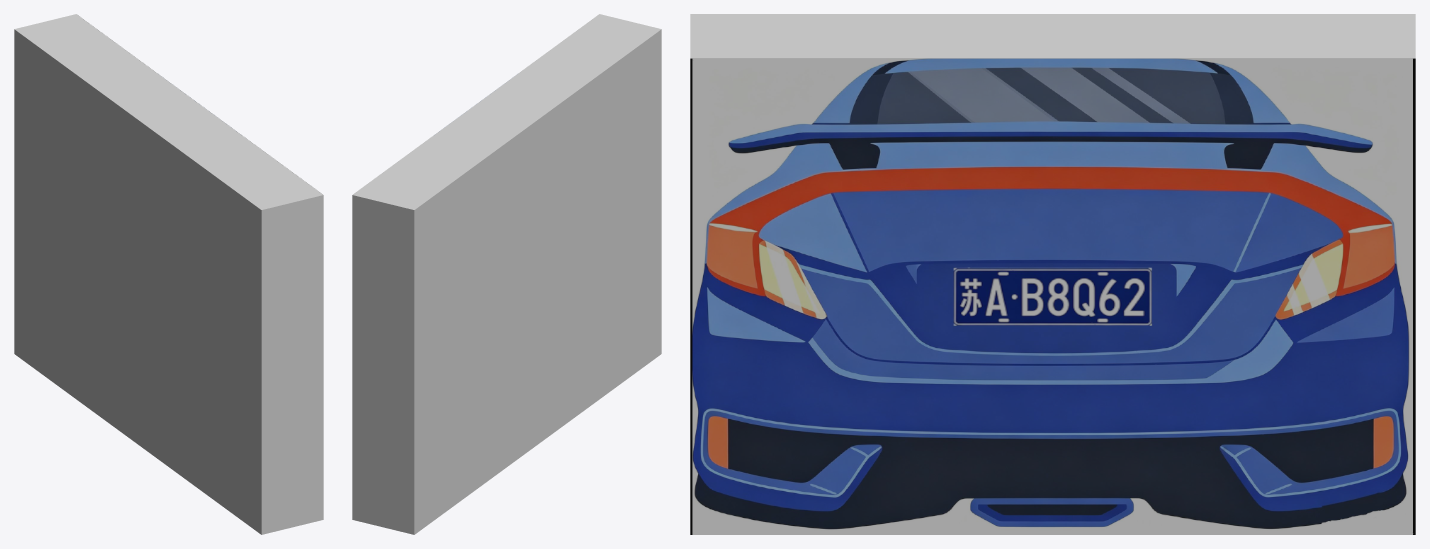
Rendered from car1.dae.
The picture shows the model from 3 angles, left to right: view 1: azimuth 30°, elevation 25°; view 2: azimuth 150°, elevation 25°; view 3: azimuth 270°, elevation 25°; orthographic projection. The views are drawn at different scales.
Visible parts, largest first — view 1: 立方体; view 2: 立方体; view 3: 平面, 立方体.
Boxes of the visible parts, x1=… form: 立方体: x1=14, y1=14, x2=323, y2=534; 立方体: x1=352, y1=14, x2=661, y2=534; 平面: x1=690, y1=58, x2=1415, y2=534; 立方体: x1=690, y1=14, x2=1415, y2=58.
Bounding box in the file's own units: 0.0501 × 0.345 × 0.25.
1 material, 1 textured.
